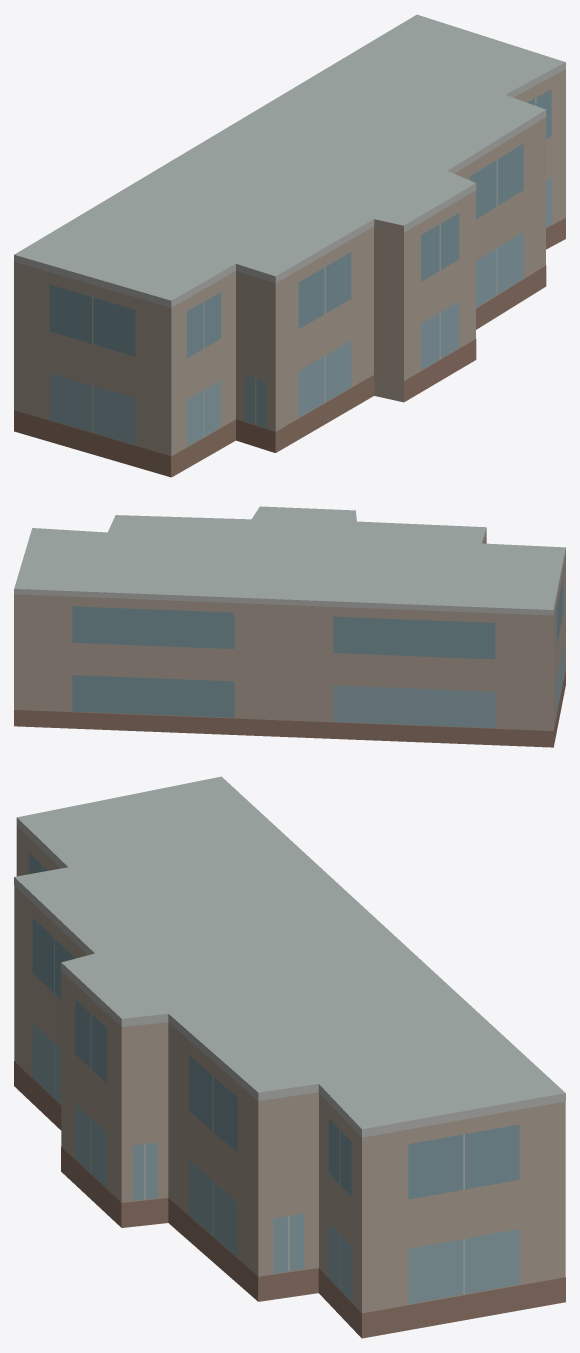
The model's file is survey-upis-32854752.glb.
The picture shows the model from 3 angles, top to bottom: view 1: azimuth 30°, elevation 25°; view 2: azimuth 150°, elevation 25°; view 3: azimuth 270°, elevation 25°; orthographic projection. The views are drawn at different scales.
Parts seen in each view (by area): view 1: survey-upis-32854752.tmp; view 2: survey-upis-32854752.tmp; view 3: survey-upis-32854752.tmp.
Boxes of the visible parts, <box> form: survey-upis-32854752.tmp: <box>14,14,565,477</box>; survey-upis-32854752.tmp: <box>14,506,565,747</box>; survey-upis-32854752.tmp: <box>14,776,565,1338</box>.
Size of the model in its own units: 22.09 by 6.1 by 14.59.
